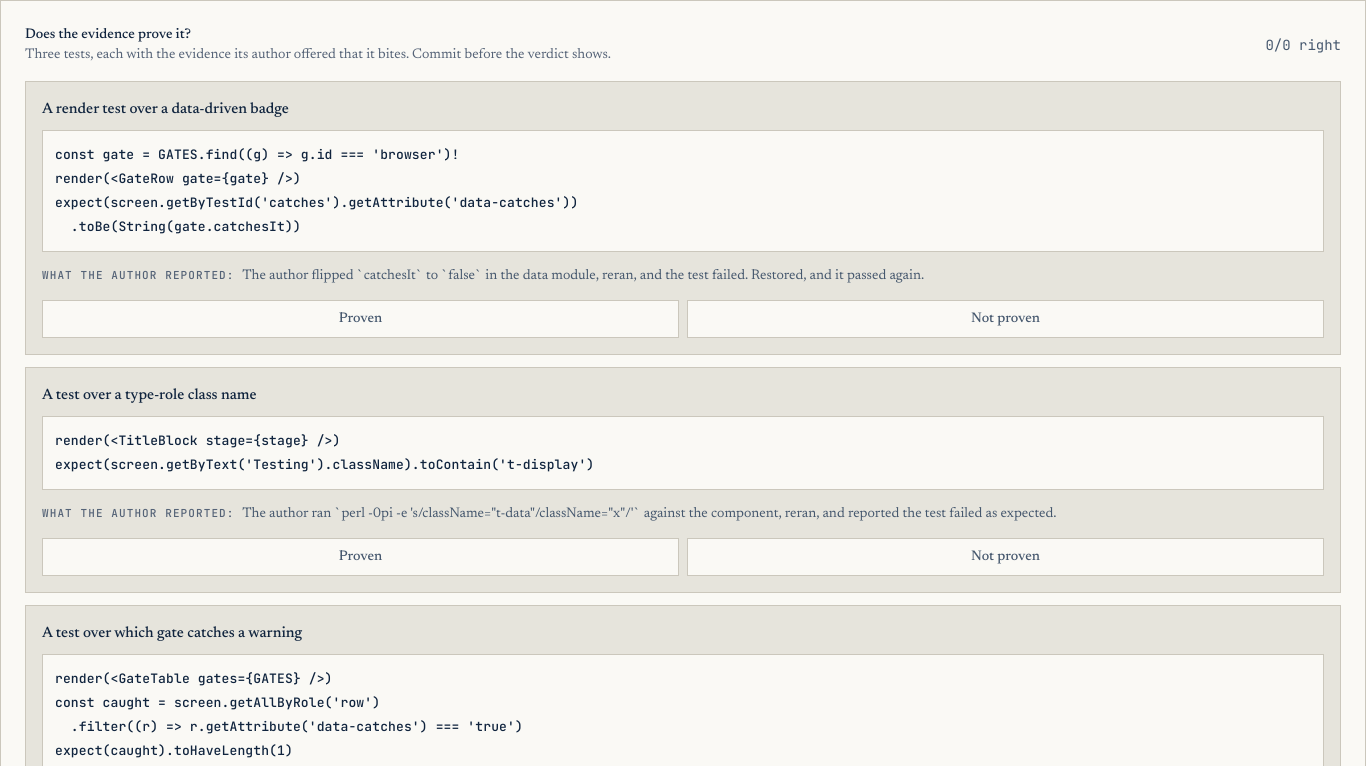
Scenario: the perl mutation case is not proven, and saying so scores
Click the 2nd radio button labelled "Not proven": click(1006, 557) [687,538,1324,576]
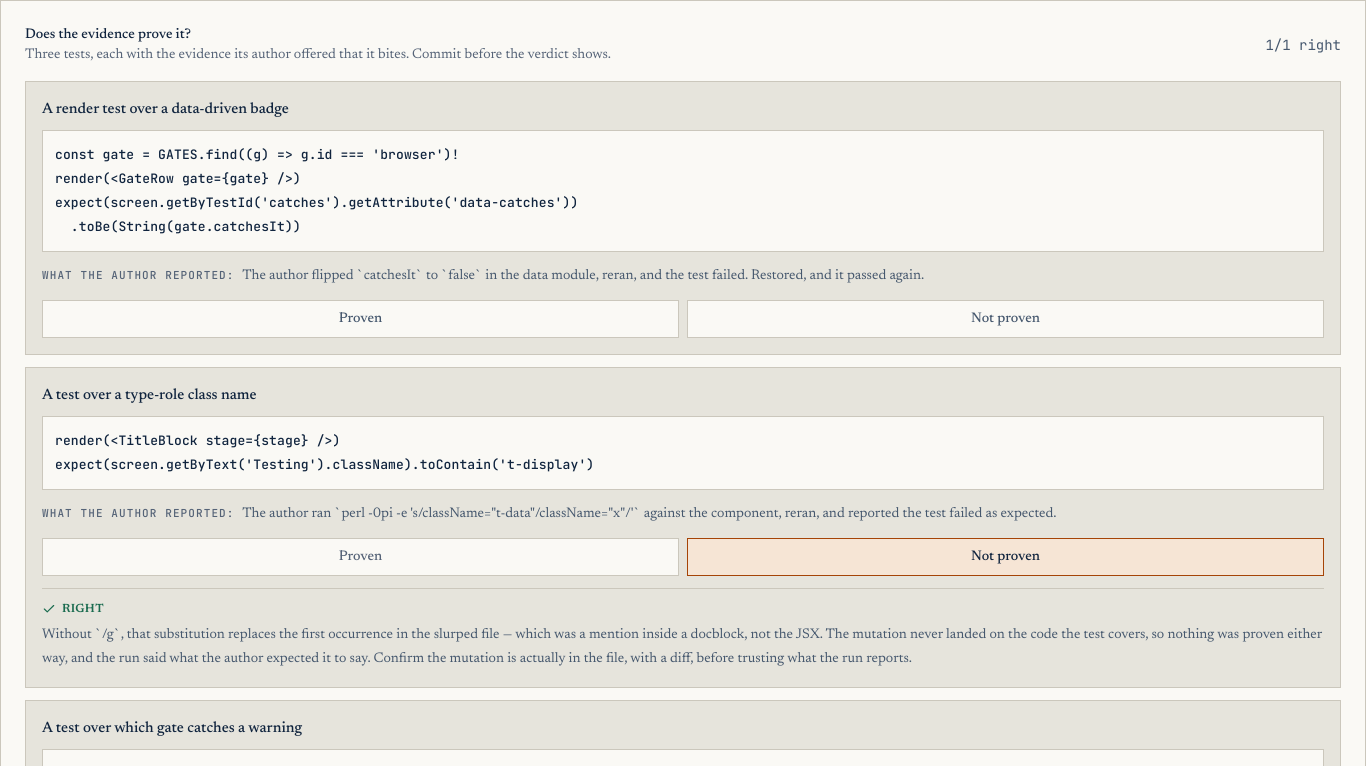
Now the text "1/1 right" is shown, box [1265,35,1341,55]
